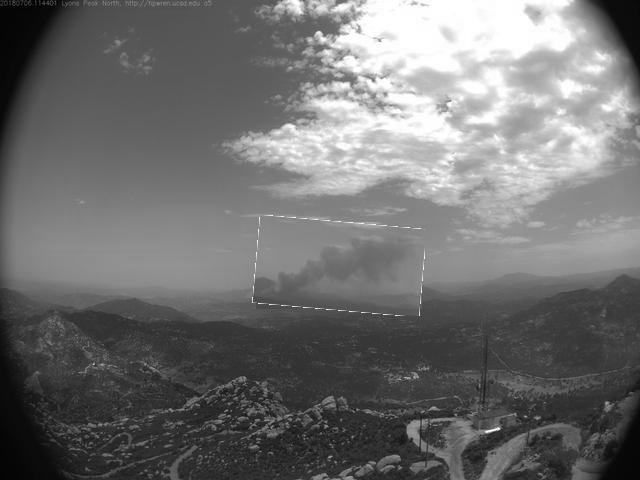smoke: (255, 220, 426, 315)
